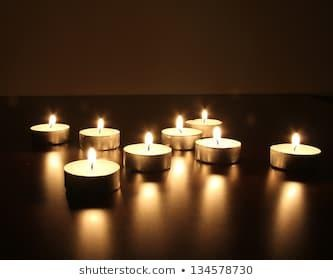fire: (173, 111, 184, 131), (290, 130, 302, 148), (87, 147, 98, 166), (211, 125, 222, 142), (142, 130, 152, 148), (95, 113, 105, 131), (47, 111, 58, 127)
